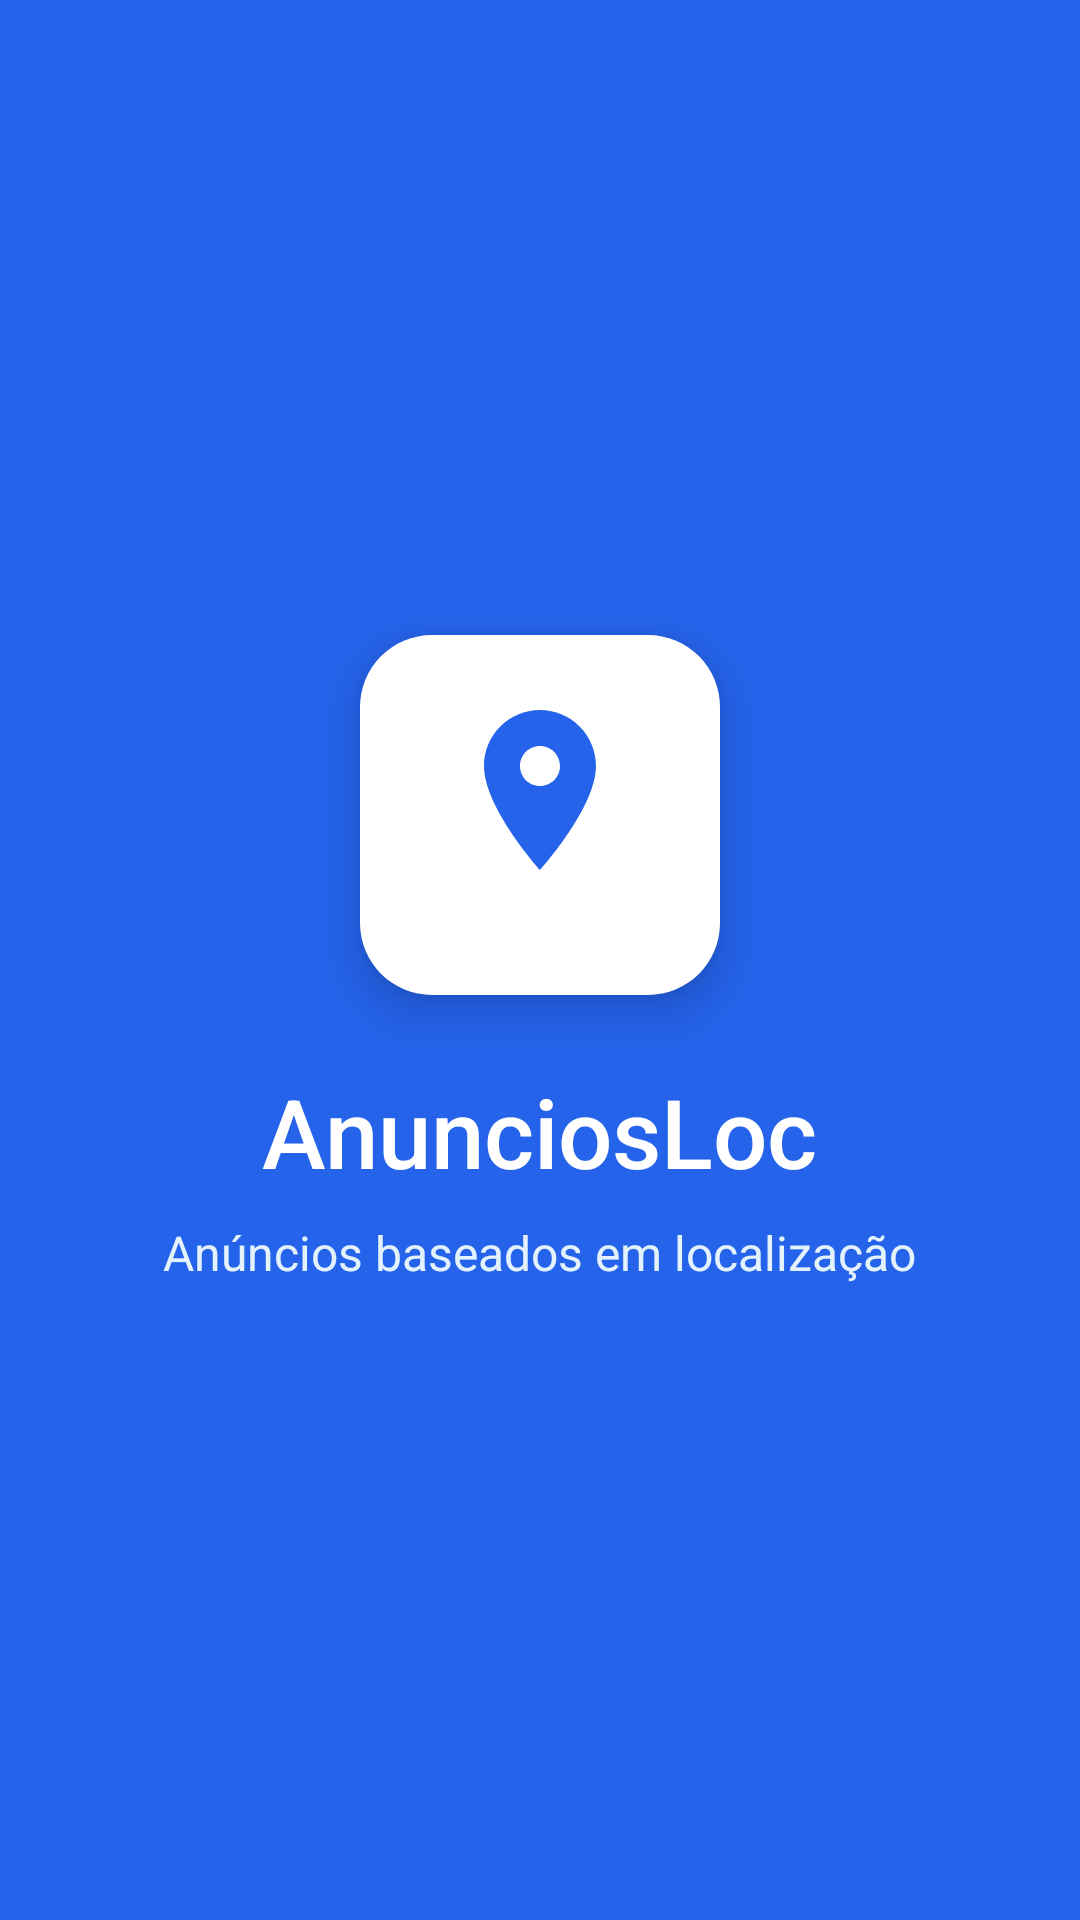

Icons on this 1080px x 1920px Android screen, each with its box as (x1, y1, x2, y2):
location on: (484, 710, 596, 870)
